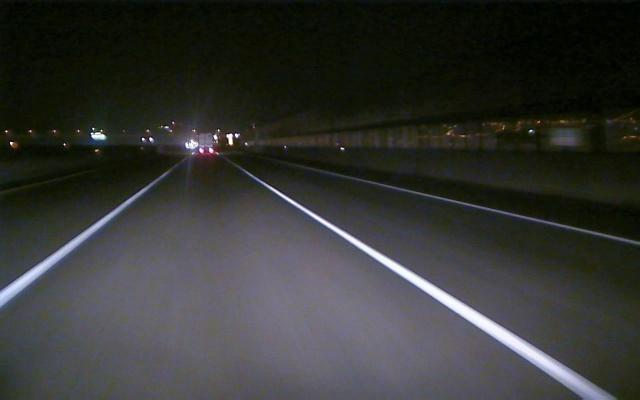lane: (252, 175, 613, 396), (1, 176, 161, 308), (363, 179, 640, 246)
